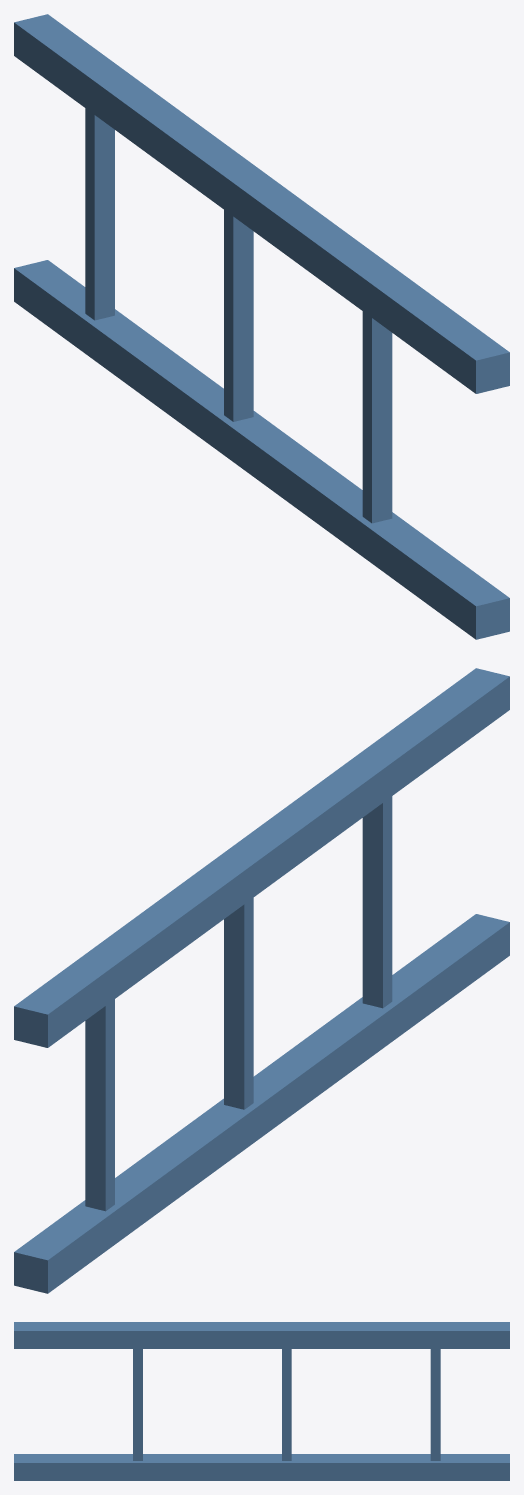
Rendered from SM_RackFrame.glb.
3 views of the same model, one above another, from view 1: azimuth 30°, elevation 25°; view 2: azimuth 150°, elevation 25°; view 3: azimuth 270°, elevation 25° (orthographic). The views are drawn at different scales.
Visible parts, largest first — view 1: part_01, part_00, part_04, part_02, part_03; view 2: part_01, part_00, part_04, part_03, part_02; view 3: part_01, part_00, part_02, part_03, part_04.
Boxes of the visible parts, x1,y1,x2,y2 form: part_01: (14, 14, 509, 393); part_00: (14, 260, 509, 639); part_04: (362, 311, 392, 523); part_02: (85, 108, 114, 320); part_03: (224, 210, 253, 421); part_01: (14, 668, 509, 1047); part_00: (14, 914, 509, 1293); part_04: (362, 796, 392, 1008); part_03: (224, 898, 253, 1109); part_02: (85, 999, 114, 1211); part_01: (14, 1322, 509, 1348); part_00: (14, 1454, 509, 1480); part_02: (430, 1349, 440, 1460); part_03: (282, 1349, 291, 1460); part_04: (133, 1349, 142, 1460).
Size of the model in its own units: 0.1269 by 1 by 3.
